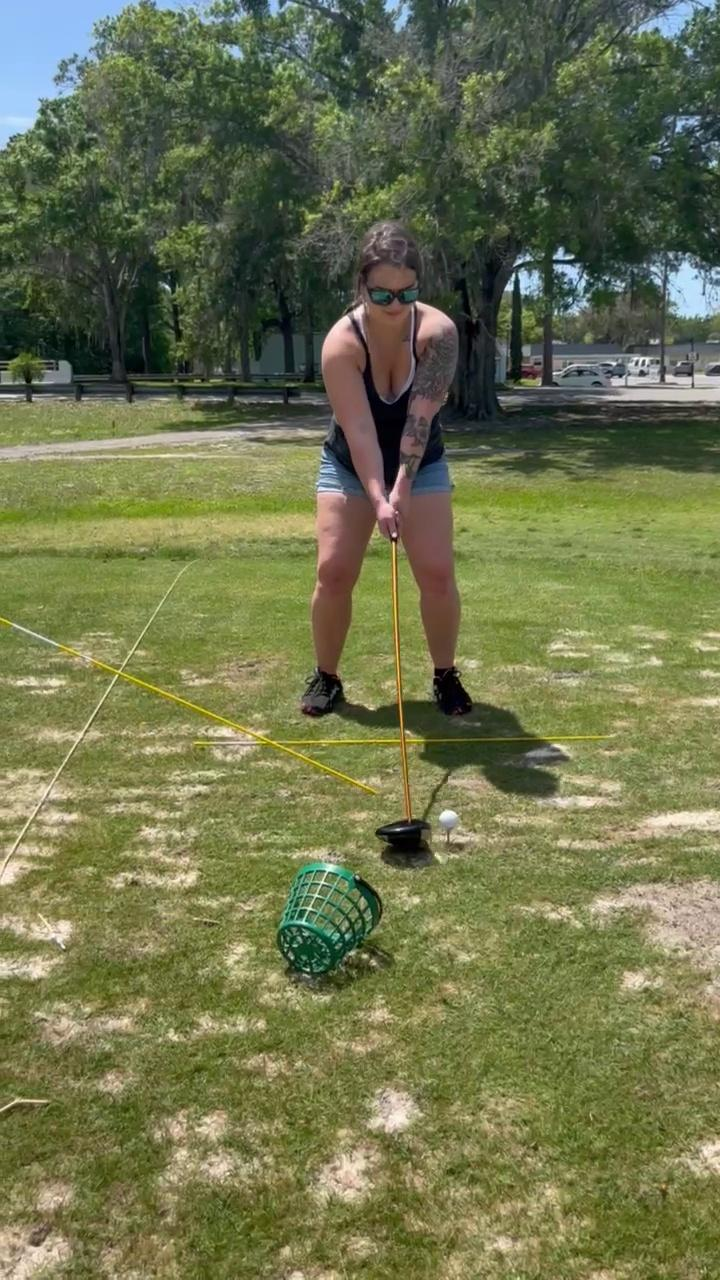ClubHead: (375, 804, 436, 868)
GolfBall: (438, 803, 460, 838)
